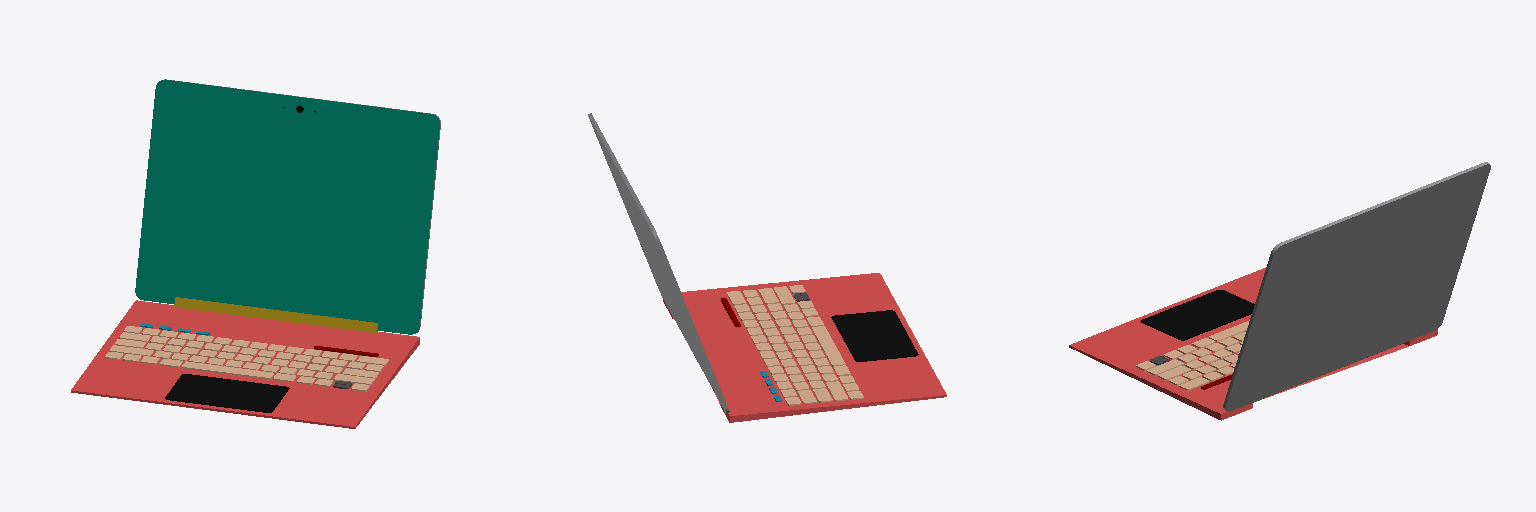
Rendered from mac.obj.
3 views of the same model, side by side, from view 1: azimuth 30°, elevation 25°; view 2: azimuth 150°, elevation 25°; view 3: azimuth 270°, elevation 25° (orthographic).
Visible parts, largest first — view 1: Rectangle001, Rectangle003, Rectangle085, Rectangle002, Rectangle077; view 2: Rectangle003, Rectangle001, Rectangle085, Rectangle077; view 3: Rectangle001, Rectangle003, Rectangle085, Shape1.
Part boxes in pixels (x1,y1,x2,y2): Rectangle001: (135, 79, 440, 334); Rectangle003: (71, 300, 419, 428); Rectangle085: (165, 374, 289, 412); Rectangle002: (174, 297, 377, 332); Rectangle077: (182, 361, 273, 378); Rectangle003: (663, 273, 946, 422); Rectangle001: (588, 113, 729, 413); Rectangle085: (831, 310, 918, 361); Rectangle077: (812, 326, 845, 366); Rectangle001: (1223, 162, 1490, 411); Rectangle003: (1069, 268, 1437, 420); Rectangle085: (1140, 290, 1254, 340); Shape1: (1341, 264, 1370, 302).
Size of the model in its own units: 109 by 56.43 by 109.